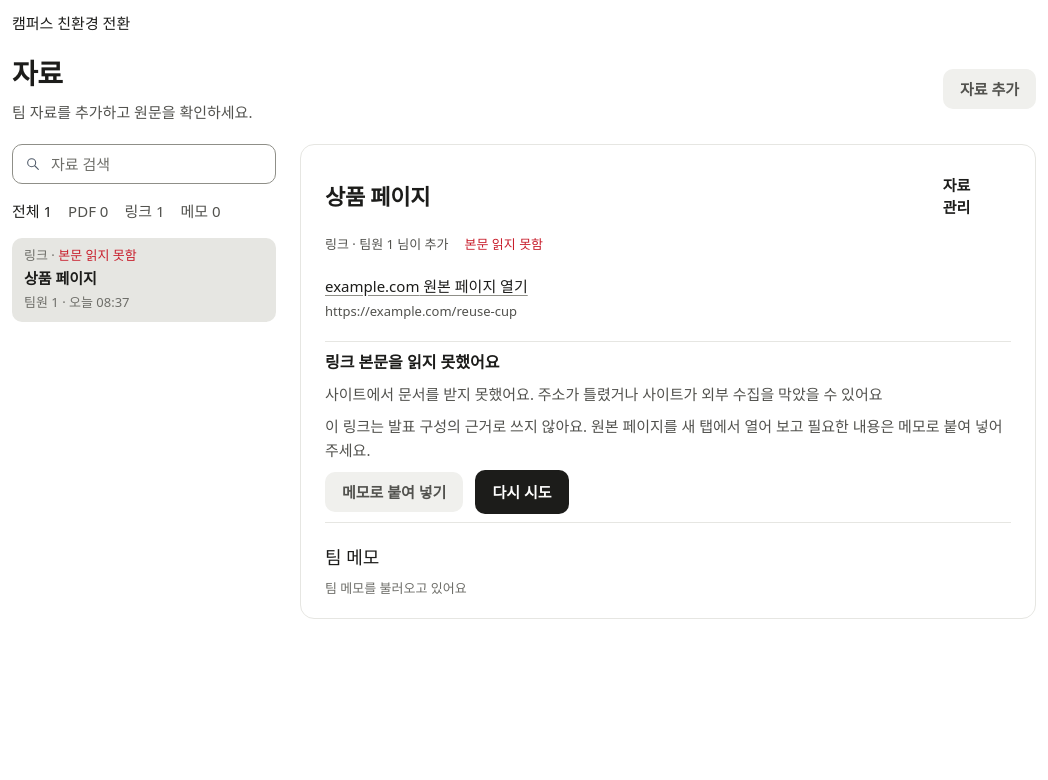
Test case: 가져오지 못한 링크는 다시 읽기와 메모로 붙여 넣기를 함께 보여 준다
Expected: the text "링크 본문을 읽지 못했어요" is shown, x1=325 y1=351 x2=499 y2=373
Expected: the text "사이트에서 문서를 받지 못했어요. 주소가 틀렸거나 사이트가 외부 수집을 막았을 수 있어요" is shown, x1=325 y1=384 x2=882 y2=404
Click the button "다시 시도" at (522, 492), box x1=475 y1=470 x2=568 y2=514
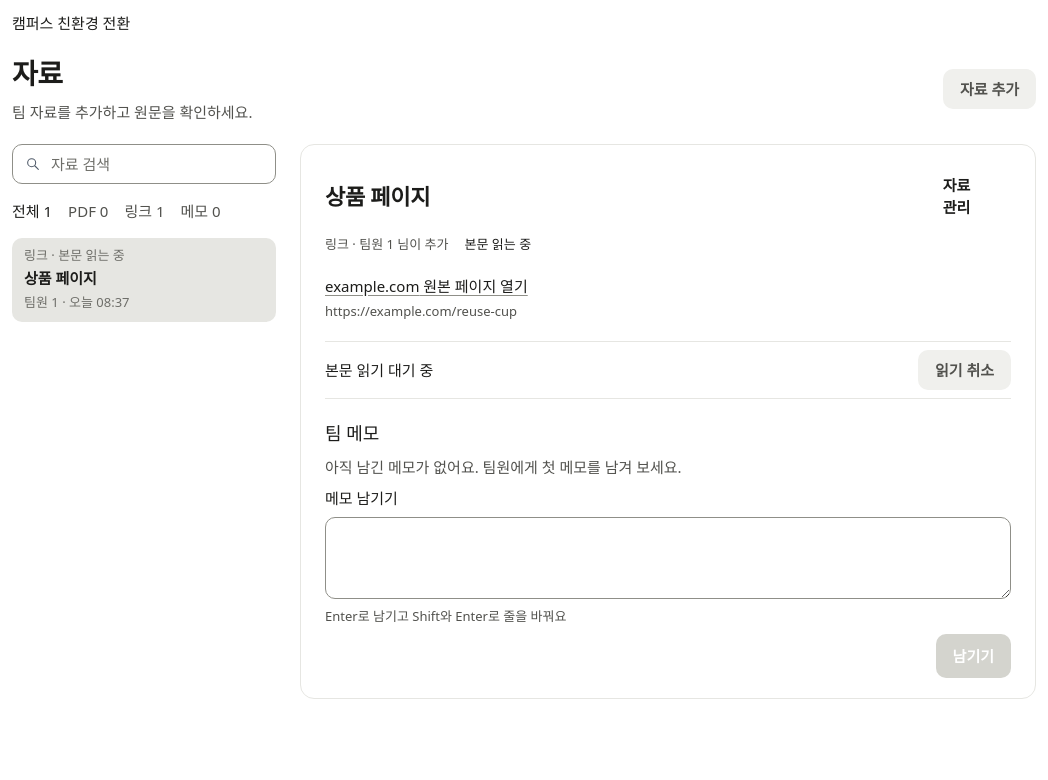
Now the text "본문 읽기 대기 중" is shown, box x1=325 y1=359 x2=433 y2=381
Now the button "읽기 취소" is shown, box x1=918 y1=350 x2=1011 y2=390
Now the text "본문 읽는 중" below "전체" is shown, box x1=58 y1=246 x2=125 y2=264
